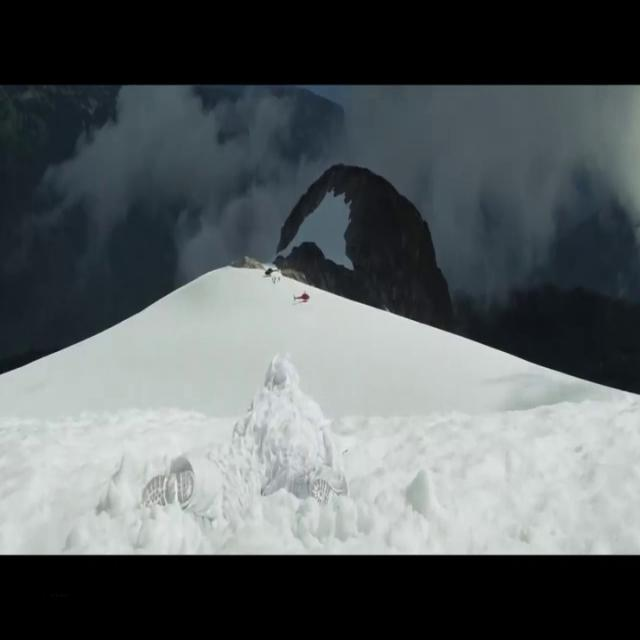Camouflage: (142, 359, 348, 516)
